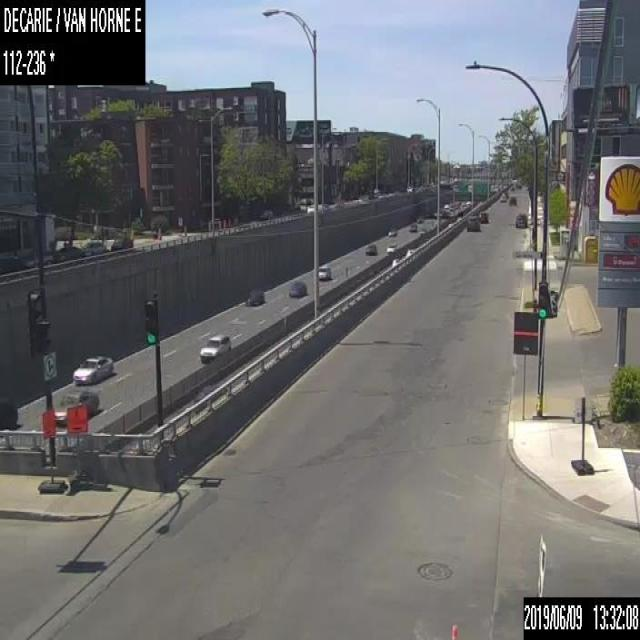construction: (36, 411, 65, 494), (64, 403, 88, 489), (570, 395, 593, 473), (449, 623, 456, 639)
vehicle: (51, 388, 97, 427), (72, 352, 112, 385), (200, 332, 230, 359), (0, 393, 18, 431), (52, 246, 80, 262), (79, 240, 106, 256), (244, 285, 264, 305), (110, 234, 132, 250), (288, 279, 307, 297), (466, 215, 479, 230), (515, 211, 527, 227), (318, 264, 330, 280), (258, 207, 272, 219), (385, 242, 397, 255), (364, 243, 376, 255), (478, 211, 488, 222), (408, 221, 417, 231), (508, 194, 516, 204), (388, 227, 396, 236), (500, 192, 506, 202)
